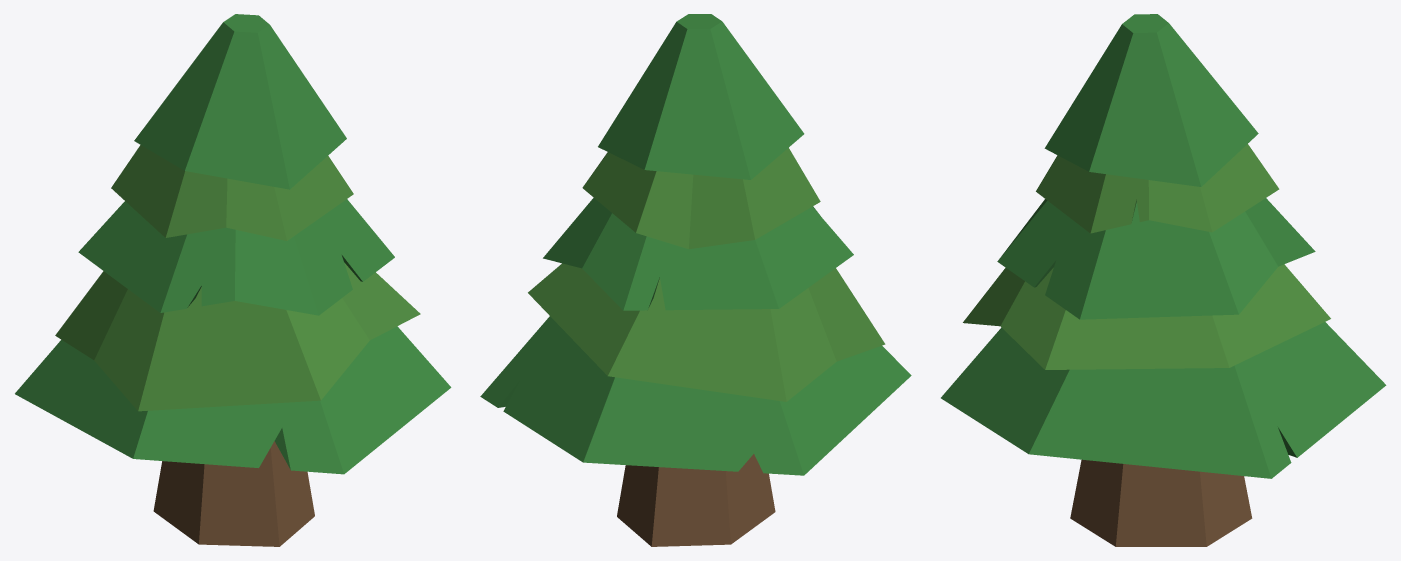
Rendered from tree2.fbx.
3 renders of one model, left to right at view 1: azimuth 30°, elevation 25°; view 2: azimuth 150°, elevation 25°; view 3: azimuth 270°, elevation 25°, orthographic. The views are drawn at different scales.
Parts seen in each view (by area): view 1: Cylinder.005, Cylinder.003, Cylinder.008, Cylinder.006, Cylinder.007, Cylinder; view 2: Cylinder.003, Cylinder.005, Cylinder.008, Cylinder.006, Cylinder.007, Cylinder; view 3: Cylinder.003, Cylinder.006, Cylinder.008, Cylinder.005, Cylinder, Cylinder.007.
Boxes of the visible parts, bbox=[...] form: Cylinder.005: bbox=[55, 262, 420, 411]; Cylinder.003: bbox=[15, 326, 451, 474]; Cylinder.008: bbox=[134, 14, 346, 189]; Cylinder.006: bbox=[78, 199, 394, 315]; Cylinder.007: bbox=[111, 145, 353, 240]; Cylinder: bbox=[153, 441, 314, 546]; Cylinder.003: bbox=[480, 316, 911, 475]; Cylinder.005: bbox=[528, 263, 885, 401]; Cylinder.008: bbox=[598, 14, 804, 179]; Cylinder.006: bbox=[543, 197, 853, 310]; Cylinder.007: bbox=[582, 148, 820, 249]; Cylinder: bbox=[617, 454, 775, 546]; Cylinder.003: bbox=[941, 322, 1386, 478]; Cylinder.006: bbox=[997, 198, 1315, 319]; Cylinder.008: bbox=[1044, 14, 1258, 186]; Cylinder.005: bbox=[963, 264, 1330, 369]; Cylinder: bbox=[1070, 459, 1252, 546]; Cylinder.007: bbox=[1036, 144, 1279, 233].
Size of the model in its own units: 254 by 365 by 296.
